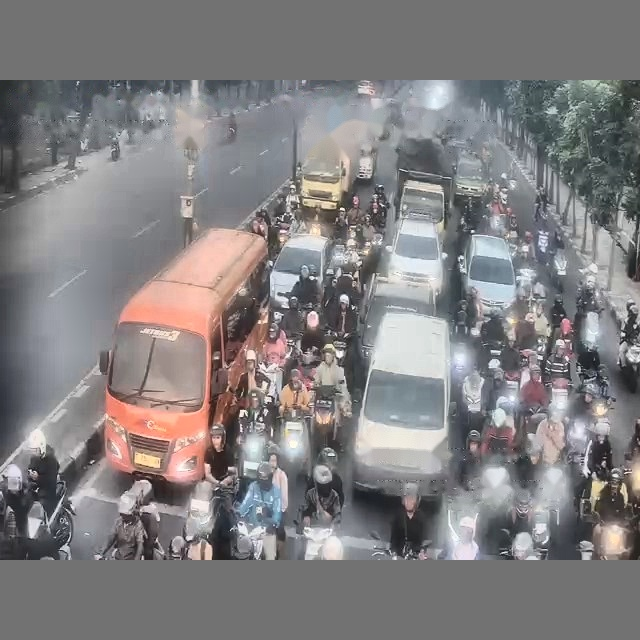Mobil: (352, 312, 455, 500), (360, 274, 435, 367), (385, 216, 446, 298), (458, 234, 516, 315), (270, 234, 332, 308), (455, 152, 485, 204), (357, 80, 375, 96)
Motor: (28, 480, 75, 548), (238, 409, 272, 480), (280, 408, 311, 476), (312, 385, 339, 447), (621, 339, 639, 392), (551, 249, 567, 292), (110, 140, 119, 161)
Truk: (300, 120, 375, 213), (394, 137, 453, 232)
